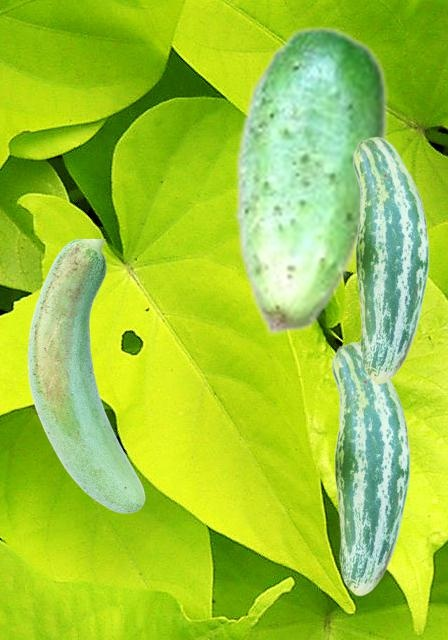cucumber: (234, 24, 387, 335), (27, 239, 144, 512), (331, 341, 409, 595), (352, 136, 428, 383)
